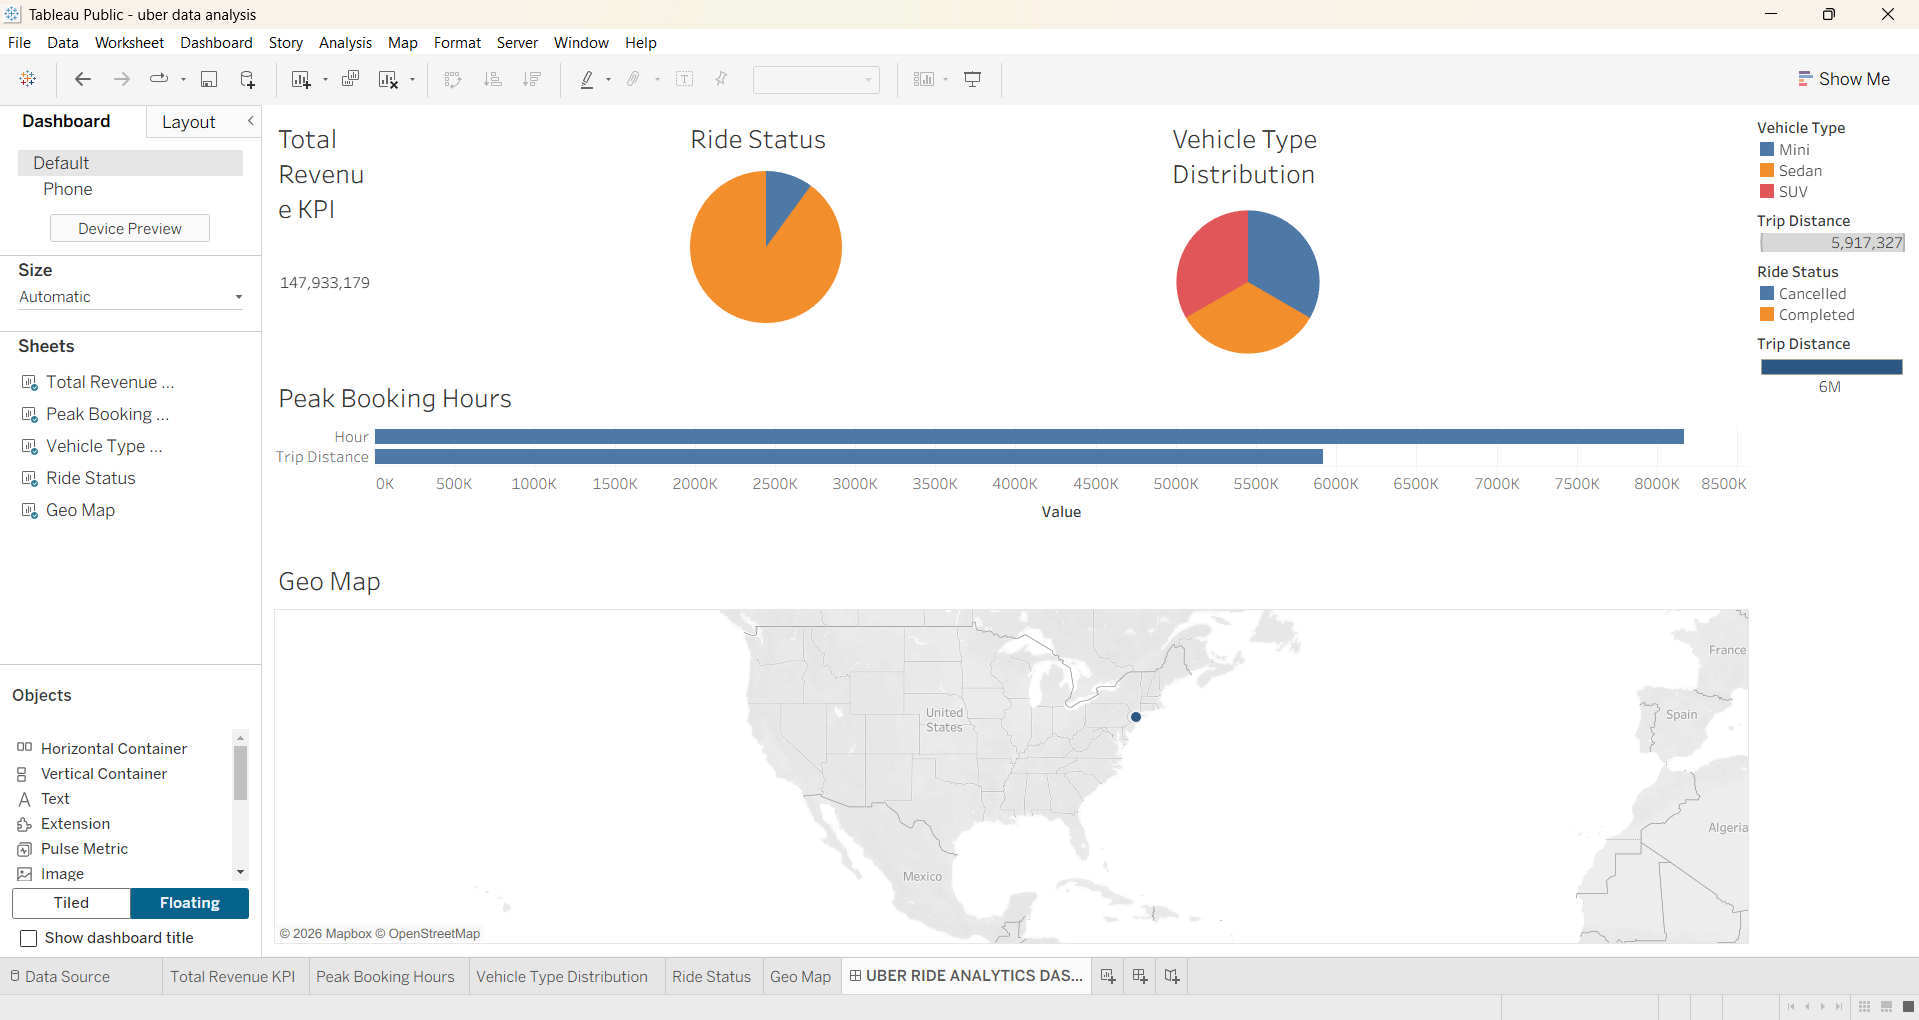

The dashboard page shown, as its layout file describes it:
{"tool":"tableau","page":{"name":"UBER RIDE ANALYTICS DASHBOARD\\","canvas":[1000,1000],"units":"permille","ordinal":0},"visuals":[{"type":"worksheet","title":"Total Revenue KPI","mark":"Text","box":[4.8,9.4,248.8,304.5]},{"type":"worksheet","title":"Ride Status","mark":"Pie","box":[253.7,9.4,290.9,304.5]},{"type":"worksheet","title":"Vehicle Type Distribution","mark":"Pie","box":[544.5,9.4,355.3,304.5]},{"type":"legend","title":"Vehicle Type Distribution","param":"[federated.0k8ef541e8jxwx0zpty3g11dy5ek].[none:vehicle_type:nk]","box":[899.8,9.4,95.4,109.3]},{"type":"legend","title":"Vehicle Type Distribution","param":"[federated.0k8ef541e8jxwx0zpty3g11dy5ek].[sum:trip_distance:qk]","box":[899.8,118.7,95.4,59.9]},{"type":"legend","title":"Ride Status","param":"[federated.0k8ef541e8jxwx0zpty3g11dy5ek].[none:ride_status:nk]","box":[899.8,178.6,95.4,84.6]},{"type":"legend","title":"Geo Map","param":"[federated.0k8ef541e8jxwx0zpty3g11dy5ek].[sum:trip_distance:qk]","box":[899.8,263.2,95.4,85.8]},{"type":"worksheet","title":"Peak Booking Hours","mark":"Automatic","box":[4.8,313.9,895,215.3]},{"type":"worksheet","title":"Geo Map","mark":"Automatic","rows":["pickup_latitude"],"cols":["pickup_longitude"],"box":[4.8,529.1,895,461.5]}]}

Visuals, with their boxes on the dashboard's canvas, which has no fixed pixel size, in thousandths of its width and height (x1, y1, x2, y2). These are canvas units, not pixel positions in the 1919x1020 screenshot, which may show the page scaled, cropped or inside an application window:
"Total Revenue KPI" worksheet (Text marks): bbox(5, 9, 254, 314)
"Ride Status" worksheet (Pie marks): bbox(254, 9, 545, 314)
"Vehicle Type Distribution" worksheet (Pie marks): bbox(544, 9, 900, 314)
"Vehicle Type Distribution" legend: bbox(900, 9, 995, 119)
"Vehicle Type Distribution" legend: bbox(900, 119, 995, 179)
"Ride Status" legend: bbox(900, 179, 995, 263)
"Geo Map" legend: bbox(900, 263, 995, 349)
"Peak Booking Hours" worksheet: bbox(5, 314, 900, 529)
"Geo Map" worksheet: bbox(5, 529, 900, 991)
